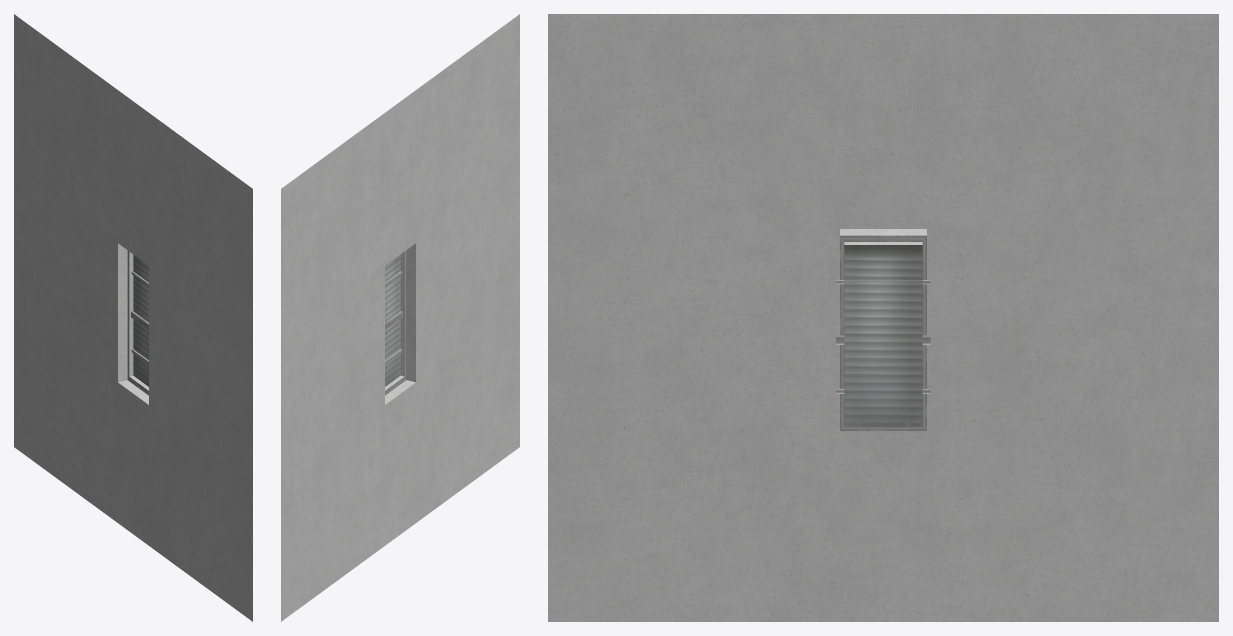
The model's file is MB_Wall_Window_A_07.fbx.
3 views of the same model, side by side, from view 1: azimuth 30°, elevation 25°; view 2: azimuth 150°, elevation 25°; view 3: azimuth 270°, elevation 25° (orthographic). The views are drawn at different scales.
Parts seen in each view (by area): view 1: MB_Wall_Window_A_07; view 2: MB_Wall_Window_A_07; view 3: MB_Wall_Window_A_07.
Part boxes in pixels (x1,y1,x2,y2): MB_Wall_Window_A_07: [14, 14, 252, 621]; MB_Wall_Window_A_07: [281, 14, 519, 621]; MB_Wall_Window_A_07: [548, 14, 1218, 621].
Bounding box in the file's own units: 13.32 × 400 × 400.
